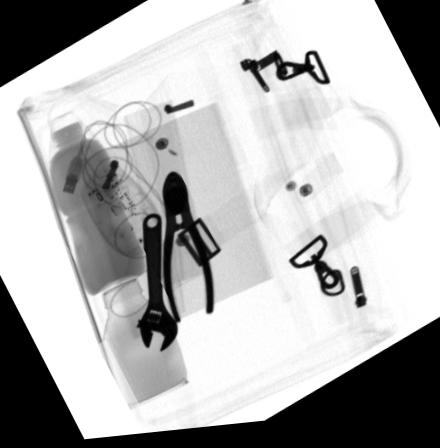Pliers: (160, 174, 215, 332)
Wrench: (133, 213, 177, 357)
